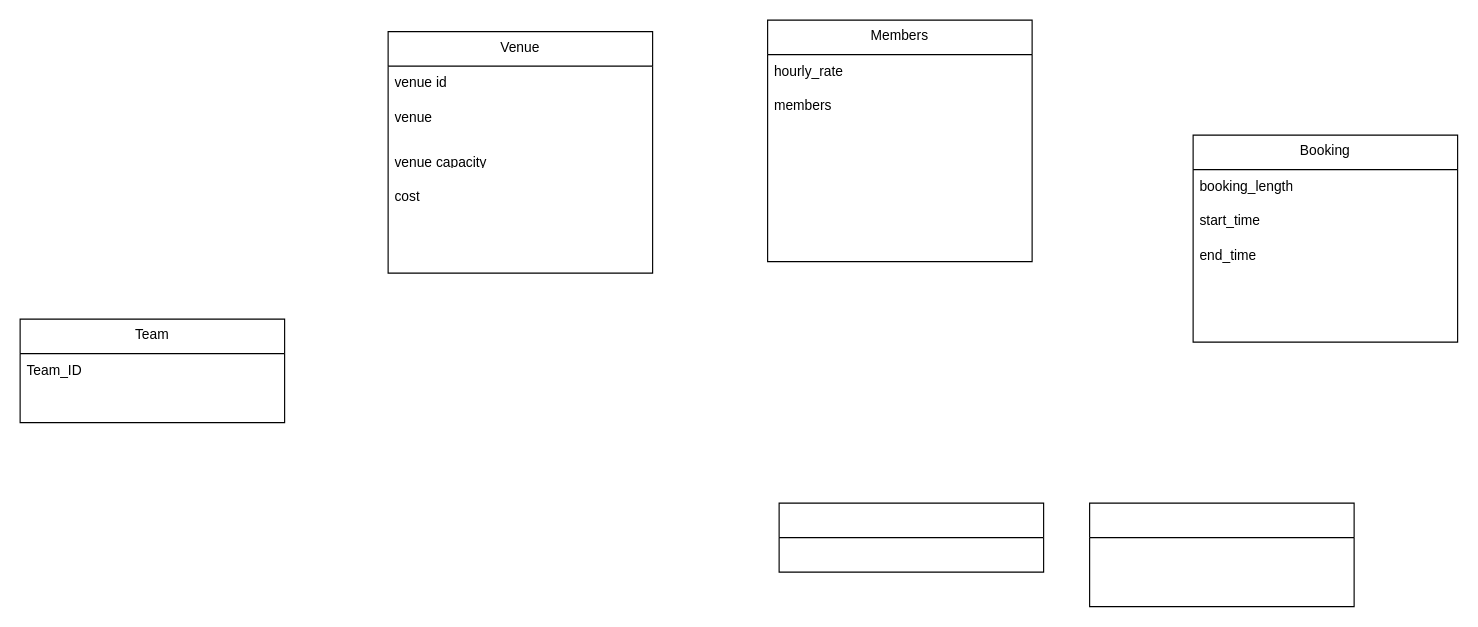
Image size: 1478x627. Some labels were removed from this diagram. The shapes that lost their labels are listed below. From the top down, each one's centre as x and y in pixels, then its label:
pixel 911 537: Presentation
pixel 1221 554: Target_audience
